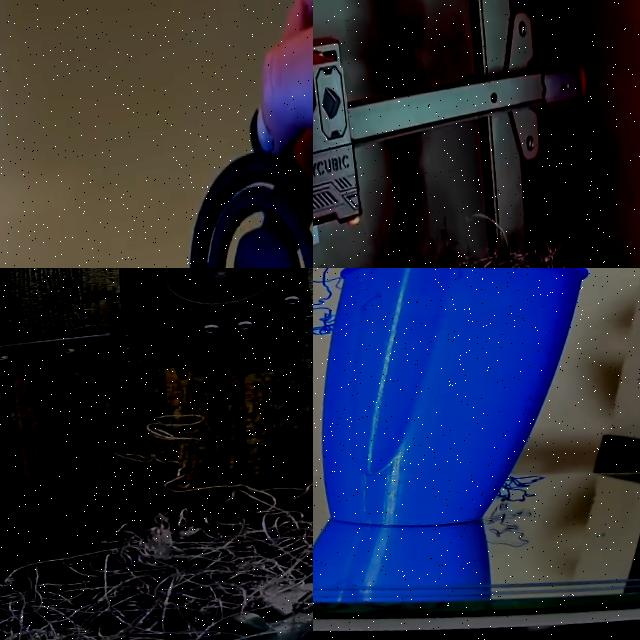spaghetti: (0, 456, 313, 640), (313, 268, 367, 337), (494, 464, 548, 514)
